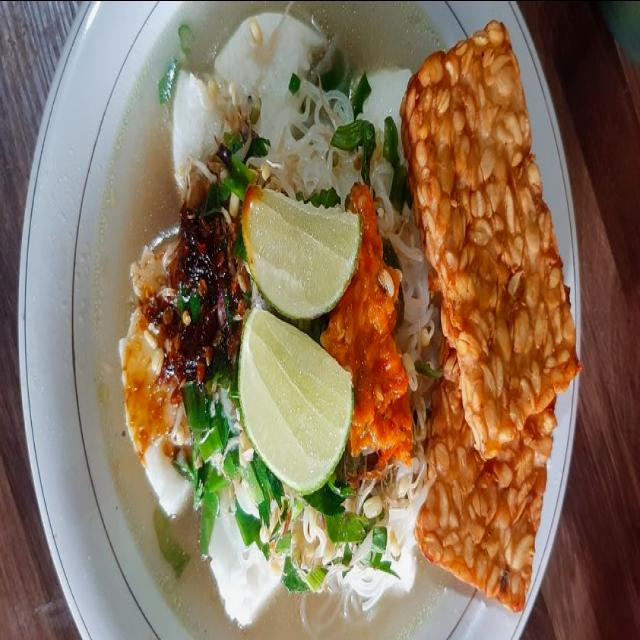tempe goreng: (401, 23, 576, 455)
